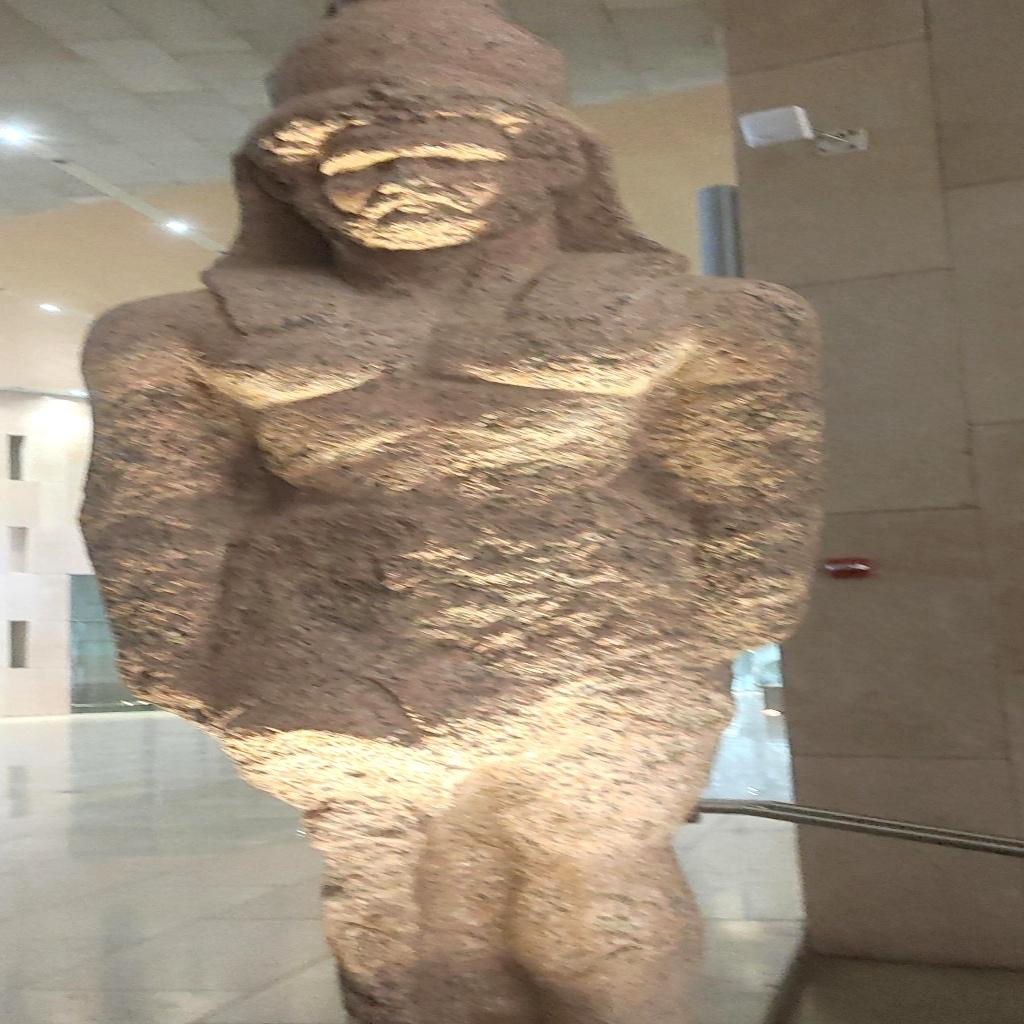Statue of Carcala: (74, 2, 833, 1021)
